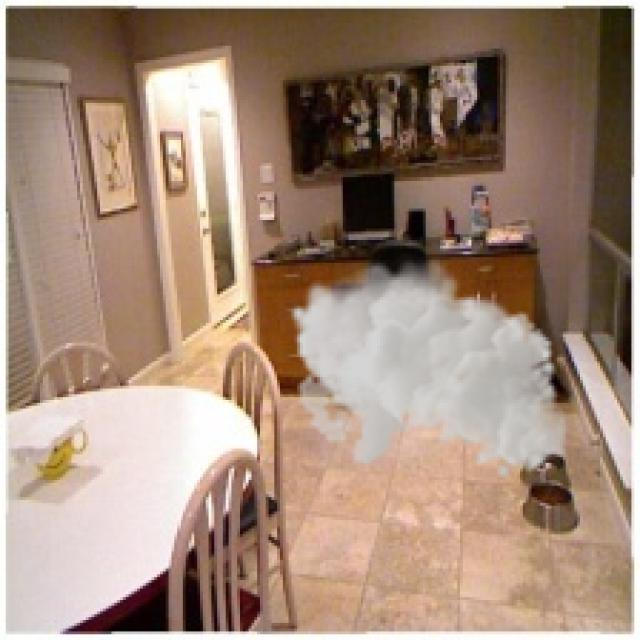smoke: (288, 251, 568, 480)
